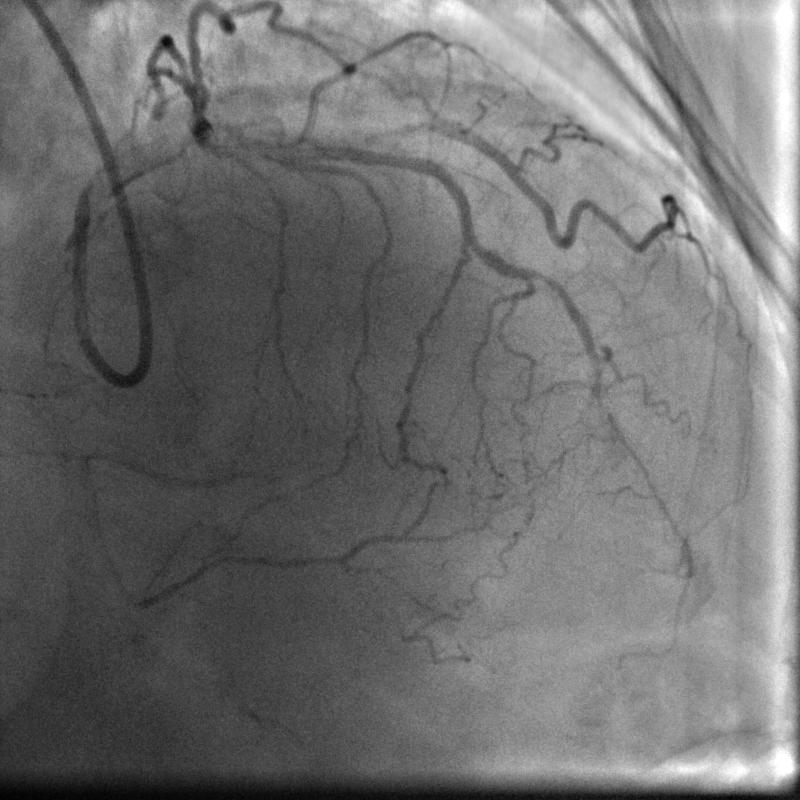Stenosis: (163, 116, 198, 158)
